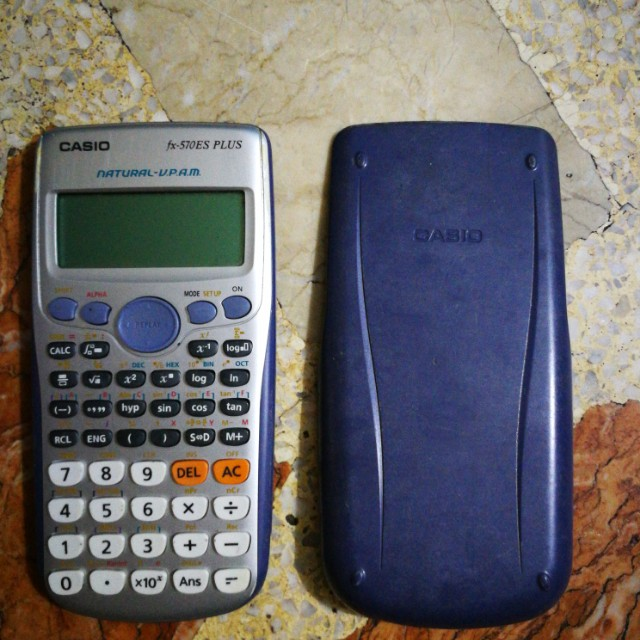Calculator: (18, 117, 288, 628)
